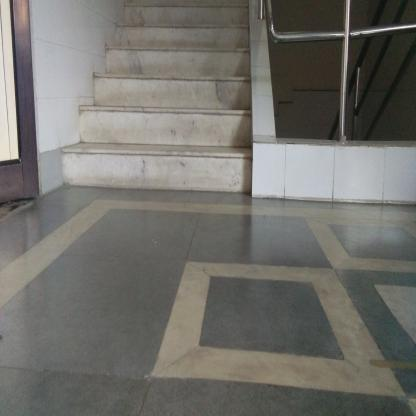stairs: (126, 15, 250, 200)
